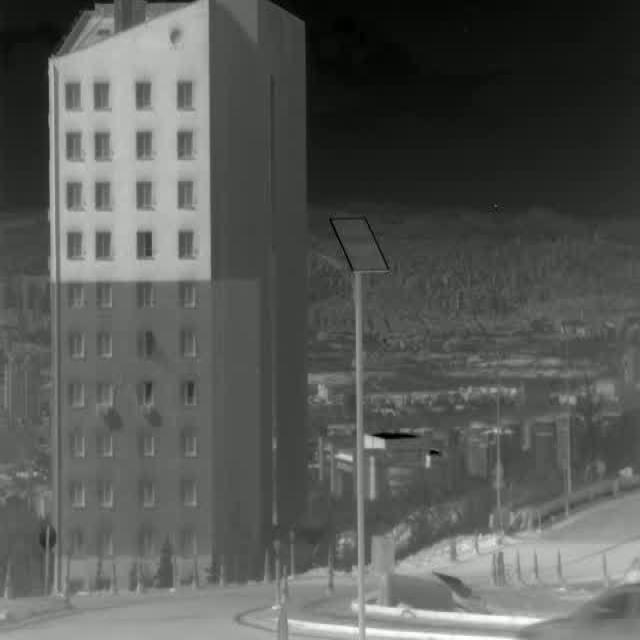Car: (514, 578, 640, 640)
